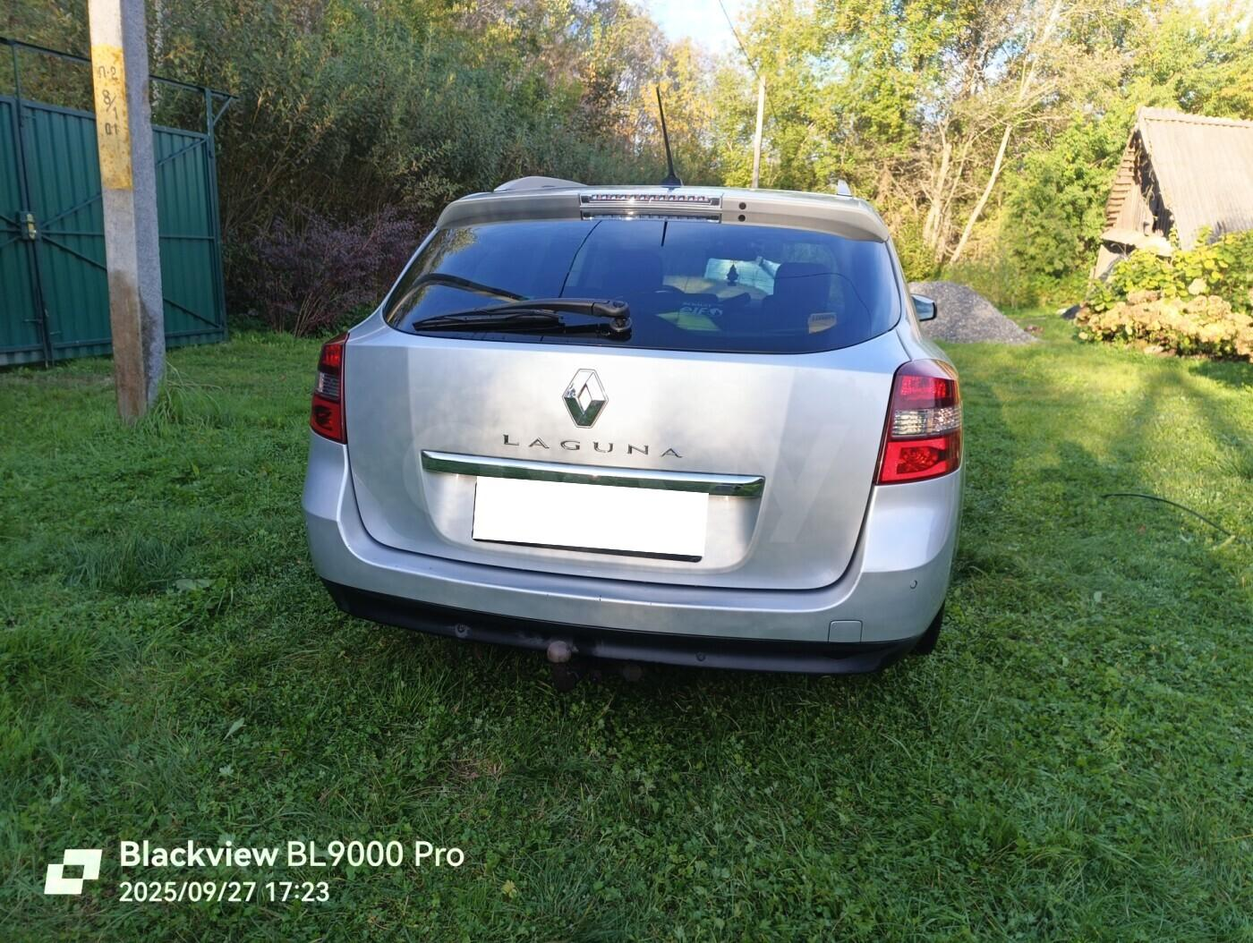Laguna_2010-2015: (294, 166, 982, 693)
